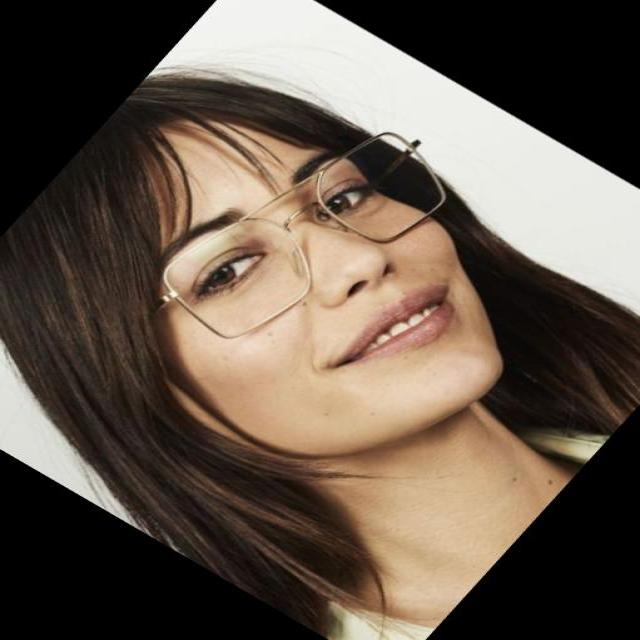glasses: (135, 126, 451, 343)
